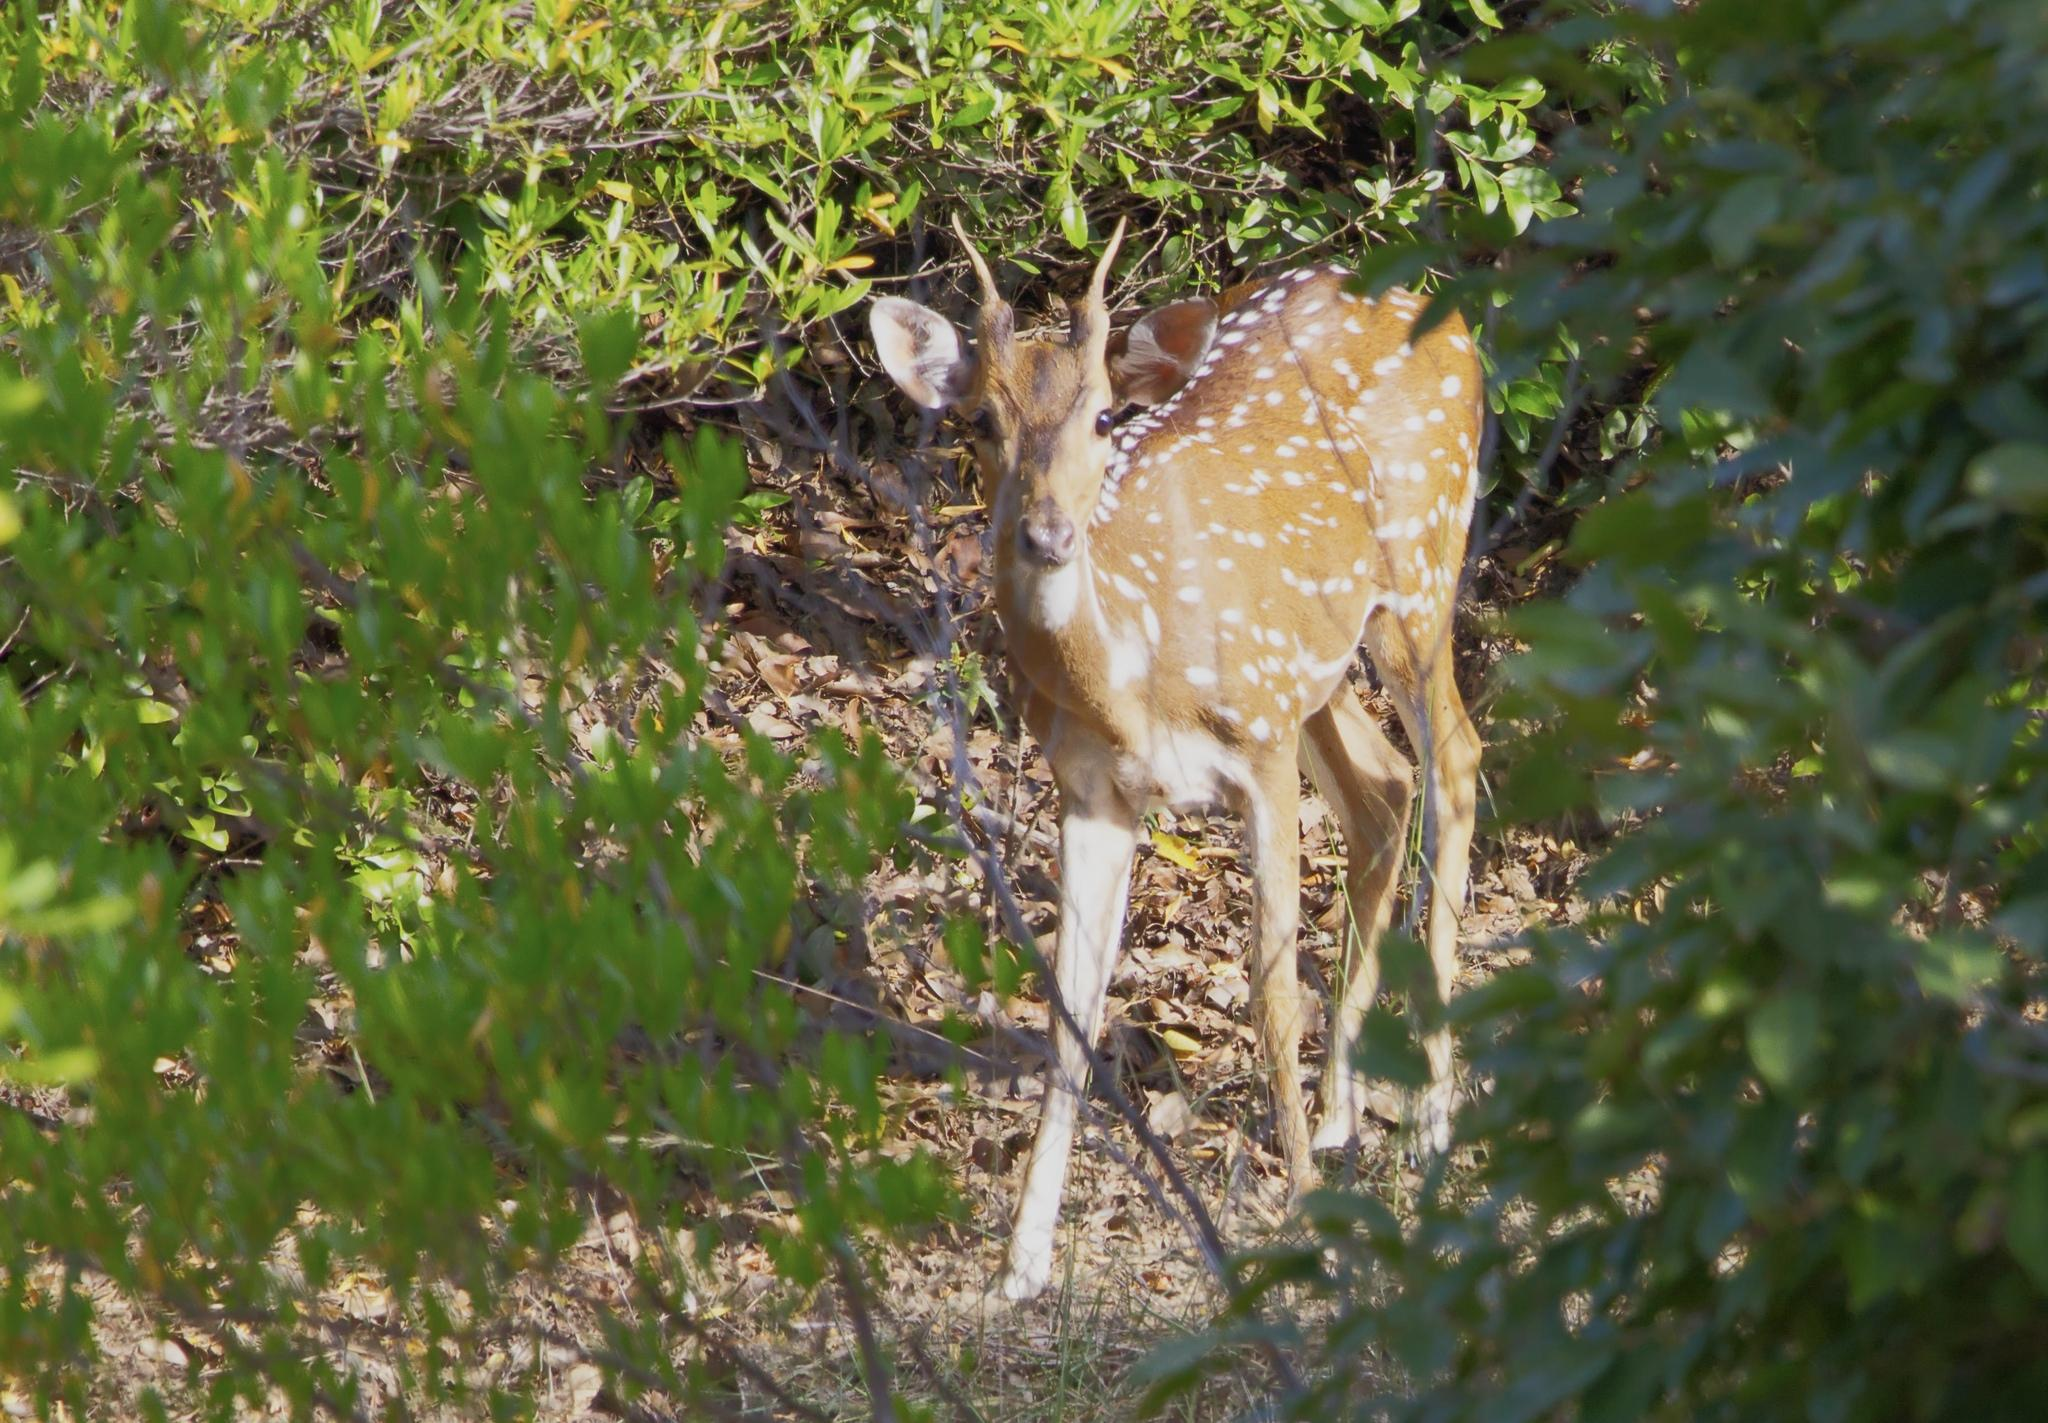Deer: (870, 230, 1483, 1297)
